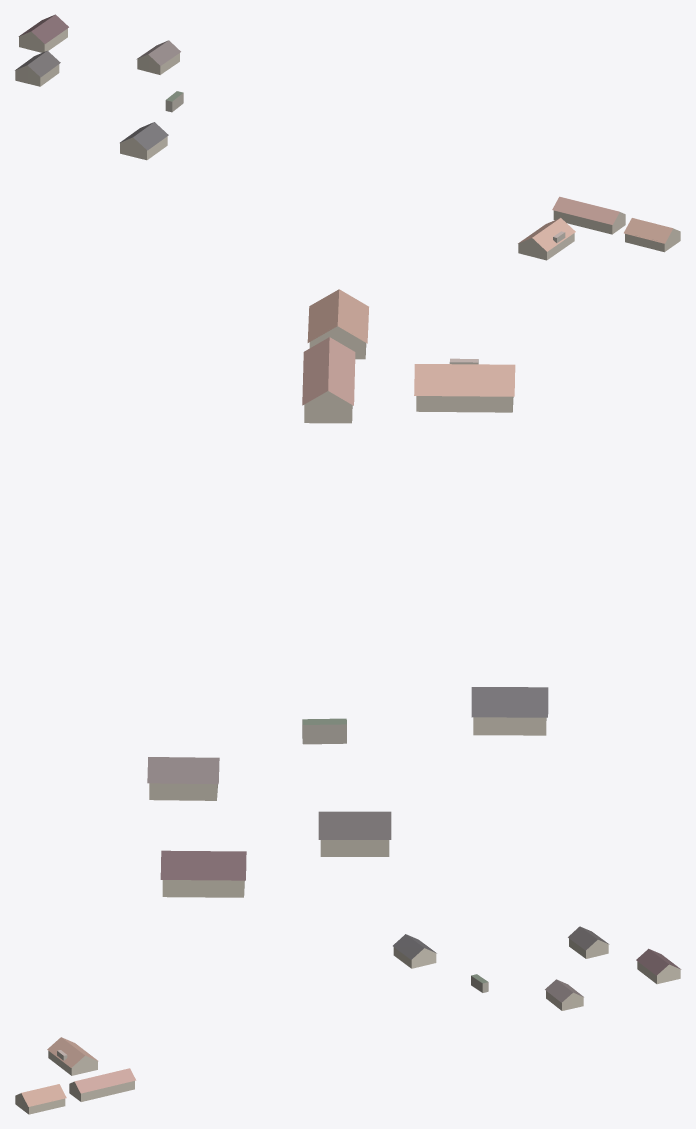
The picture shows the model from 3 angles, top to bottom: view 1: azimuth 30°, elevation 25°; view 2: azimuth 150°, elevation 25°; view 3: azimuth 270°, elevation 25°; orthographic projection. The views are drawn at different scales.
Visible parts, largest first — view 1: tuile; view 2: tuile; view 3: tuile.
Part boxes in pixels (x1=…): tuile: x1=15, y1=14, x2=680, y2=260; tuile: x1=147, y1=289, x2=548, y2=897; tuile: x1=15, y1=926, x2=681, y2=1114.
Bounding box in the file's own units: 133 × 13.58 × 239.
